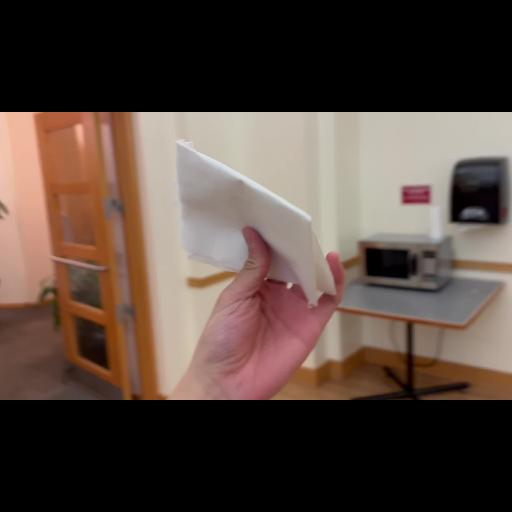napkin: (178, 138, 336, 302)
